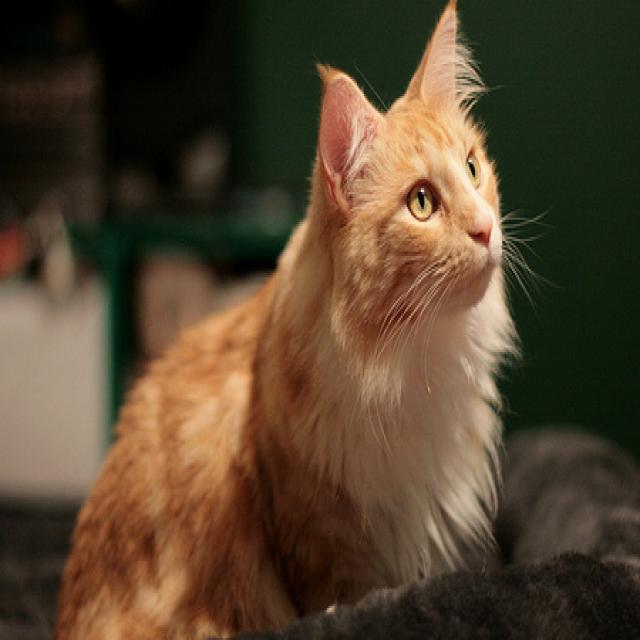Maine Coon: (51, 0, 522, 640)
